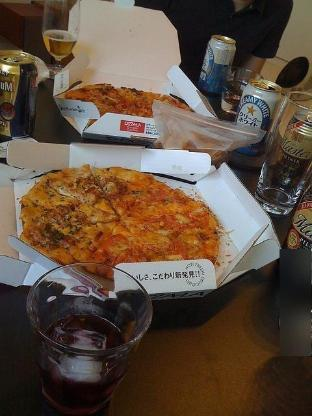Can: (1, 48, 39, 140), (234, 77, 280, 153), (196, 33, 236, 91)
